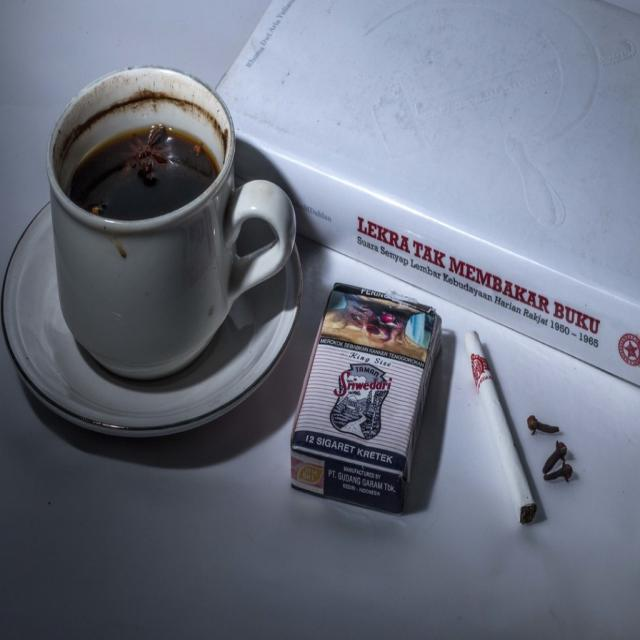Coffee: (69, 126, 216, 224)
Tea: (65, 120, 219, 218)
